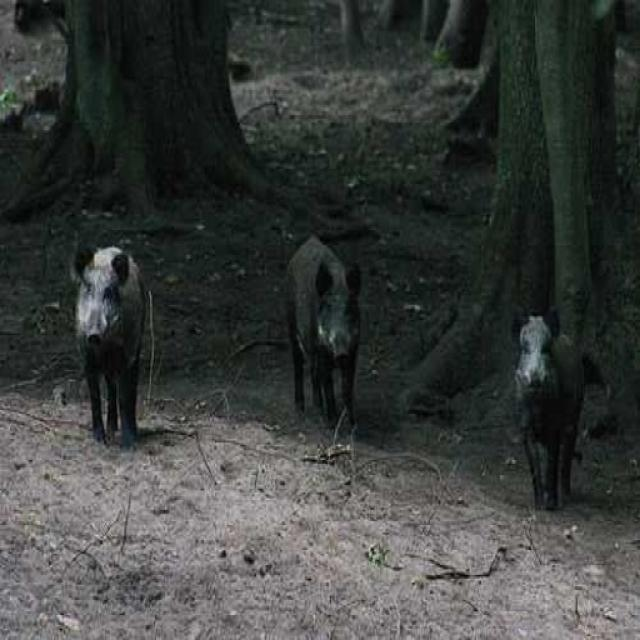pig: (261, 226, 419, 471), (55, 219, 185, 476), (494, 303, 634, 540)
